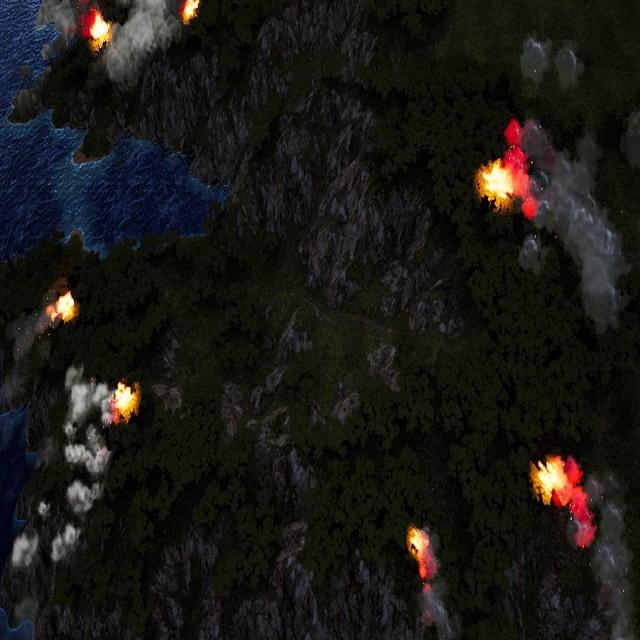fire: (480, 157, 515, 204), (535, 456, 568, 503), (408, 528, 431, 580), (113, 384, 138, 422), (90, 10, 110, 48), (52, 292, 77, 322), (182, 0, 199, 22)
smoke: (507, 29, 640, 334), (10, 356, 114, 612), (565, 469, 640, 640), (100, 0, 192, 85), (0, 308, 50, 412), (416, 528, 461, 639), (27, 0, 93, 58)
